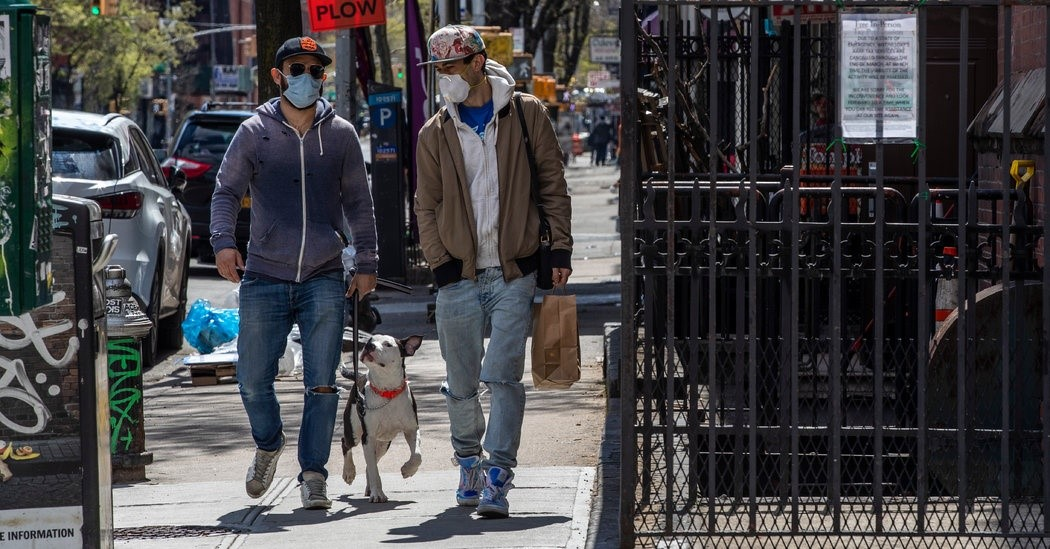face_with_mask: (414, 18, 492, 119), (266, 30, 339, 122)
